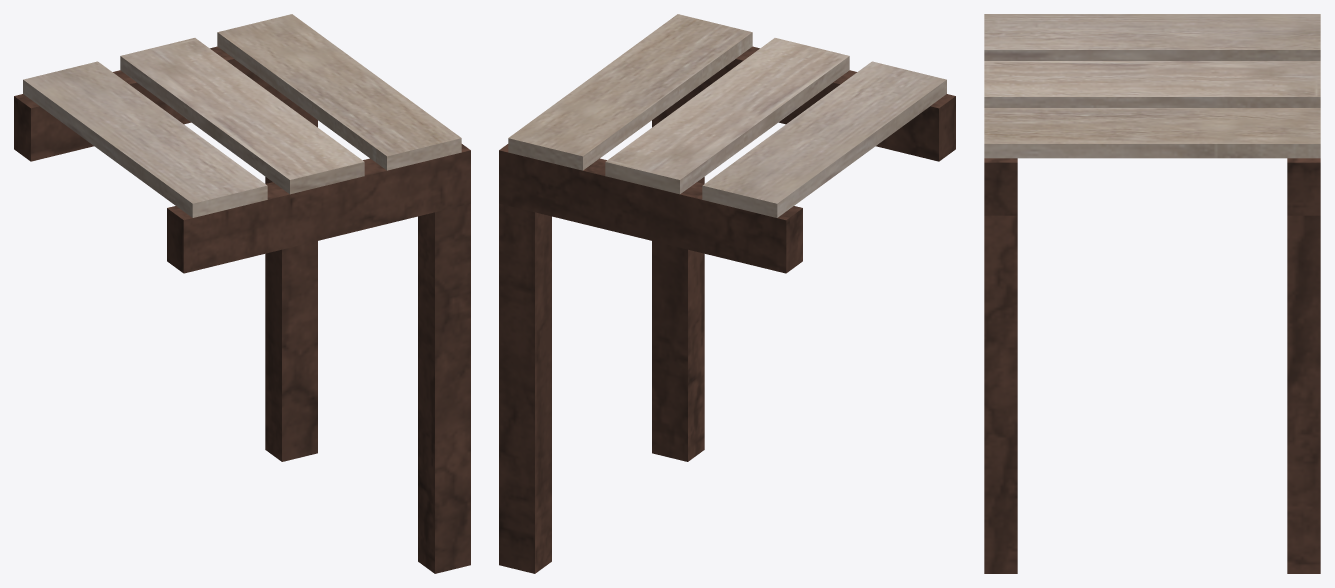
The model's file is Wooden platform1.glb.
3 renders of one model, left to right at view 1: azimuth 30°, elevation 25°; view 2: azimuth 150°, elevation 25°; view 3: azimuth 270°, elevation 25°, orthographic.
Visible parts, largest first — view 1: Cube.001, Cube.007, Cube.002; view 2: Cube.001, Cube.007, Cube.002; view 3: Cube.001, Cube.007, Cube.002.
Part boxes in pixels (<box>): Cube.001: <box>23,14,461,217</box>; Cube.007: <box>265,99,470,573</box>; Cube.002: <box>14,46,470,273</box>; Cube.001: <box>508,14,946,217</box>; Cube.007: <box>499,99,704,573</box>; Cube.002: <box>499,46,955,273</box>; Cube.001: <box>984,14,1320,158</box>; Cube.007: <box>984,215,1320,573</box>; Cube.002: <box>984,158,1320,215</box>.
Bounding box in the file's own units: 5.04 × 7.2 × 5.16.
Materials: 1 (1 with a texture image).
